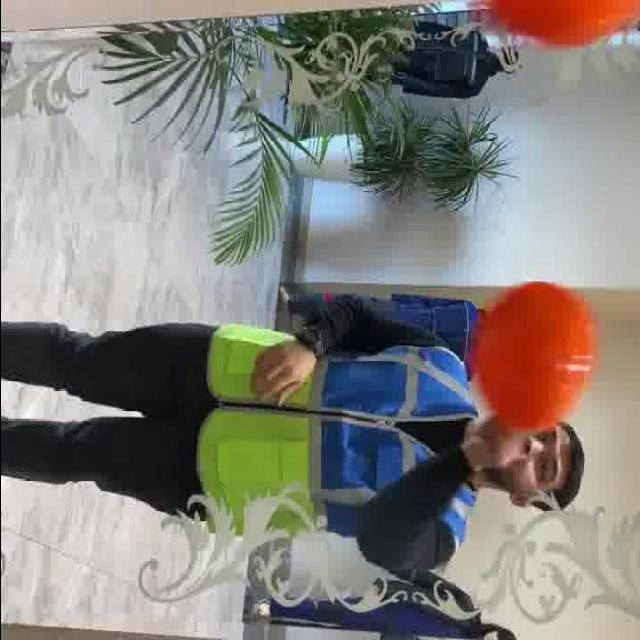helmet: (474, 282, 598, 436)
vest: (192, 322, 478, 552)
